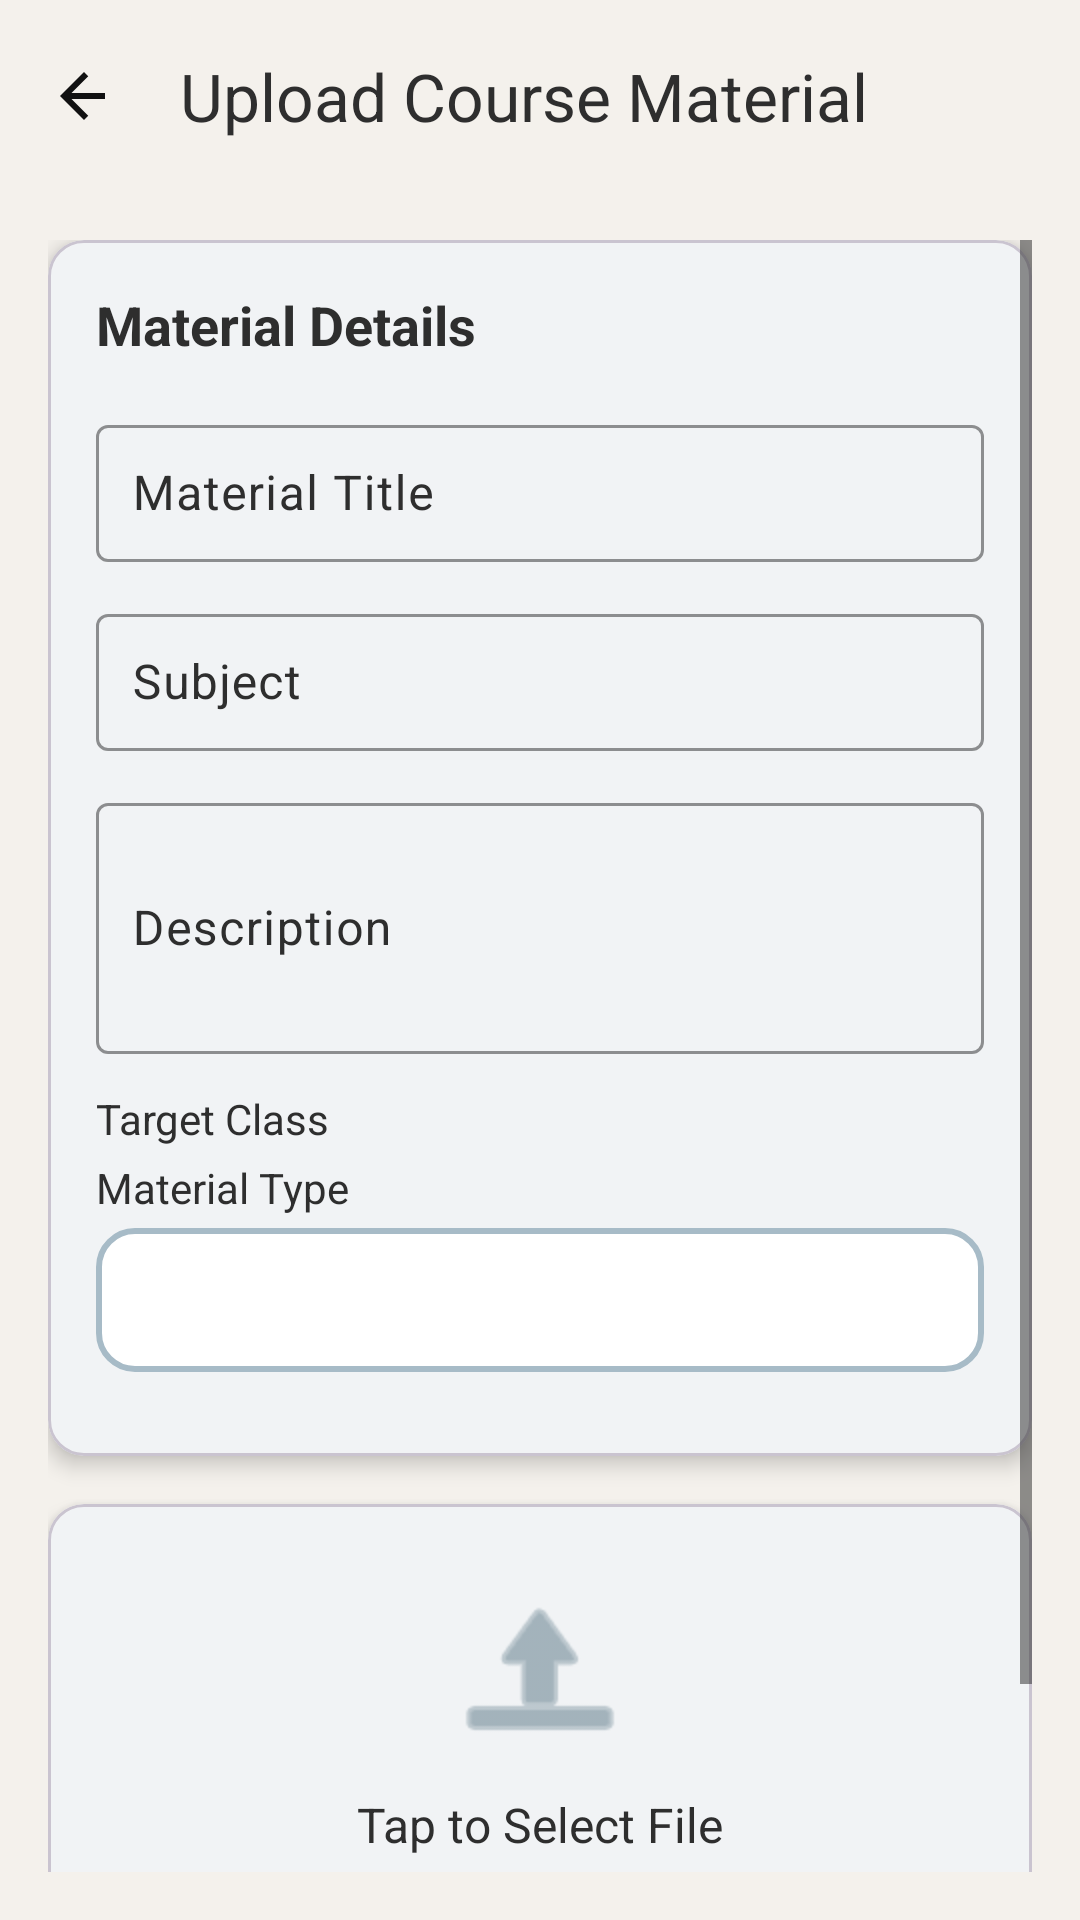

Icons on this 1080 x 1920 Android screen, each with the point to tap as point (x, y):
upload: point (540, 1669)
